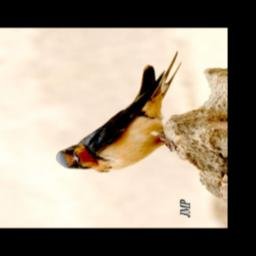Swallow: (53, 51, 193, 174)
